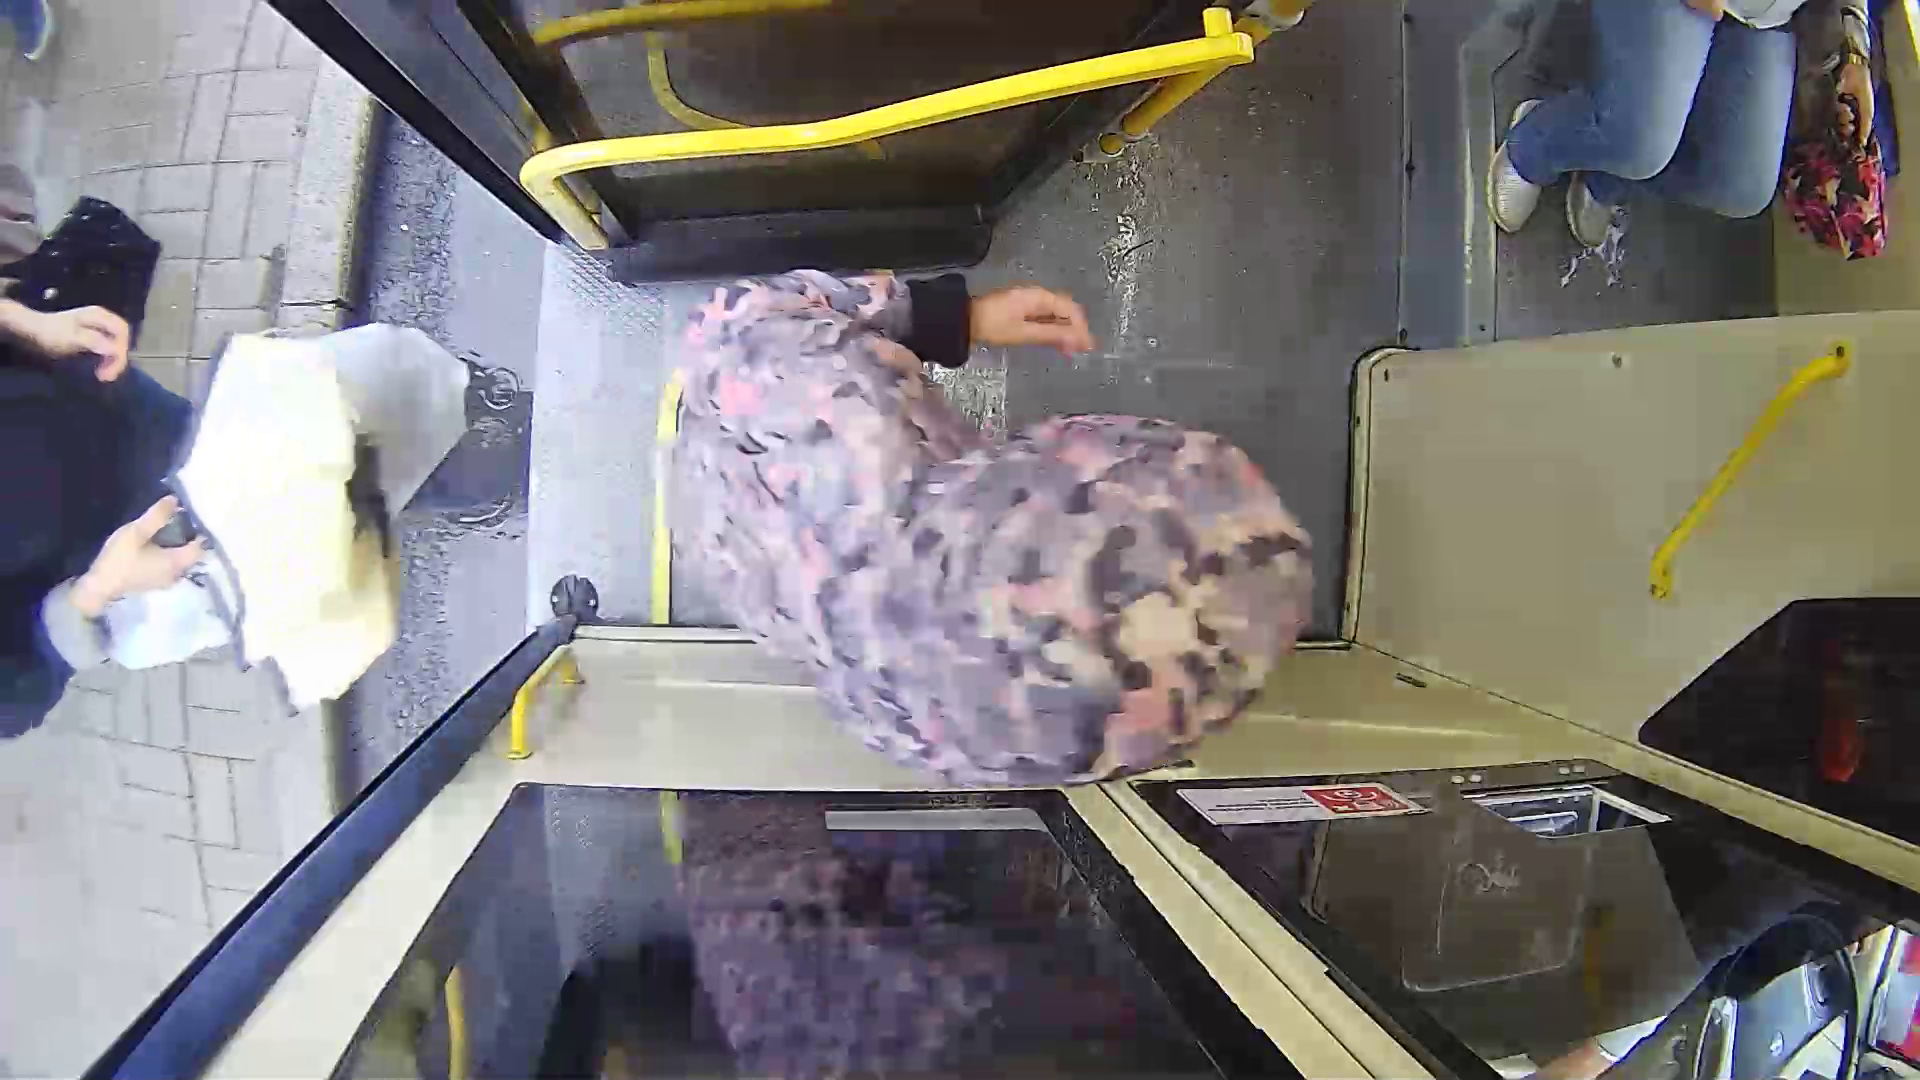person: (592, 268, 1369, 822)
